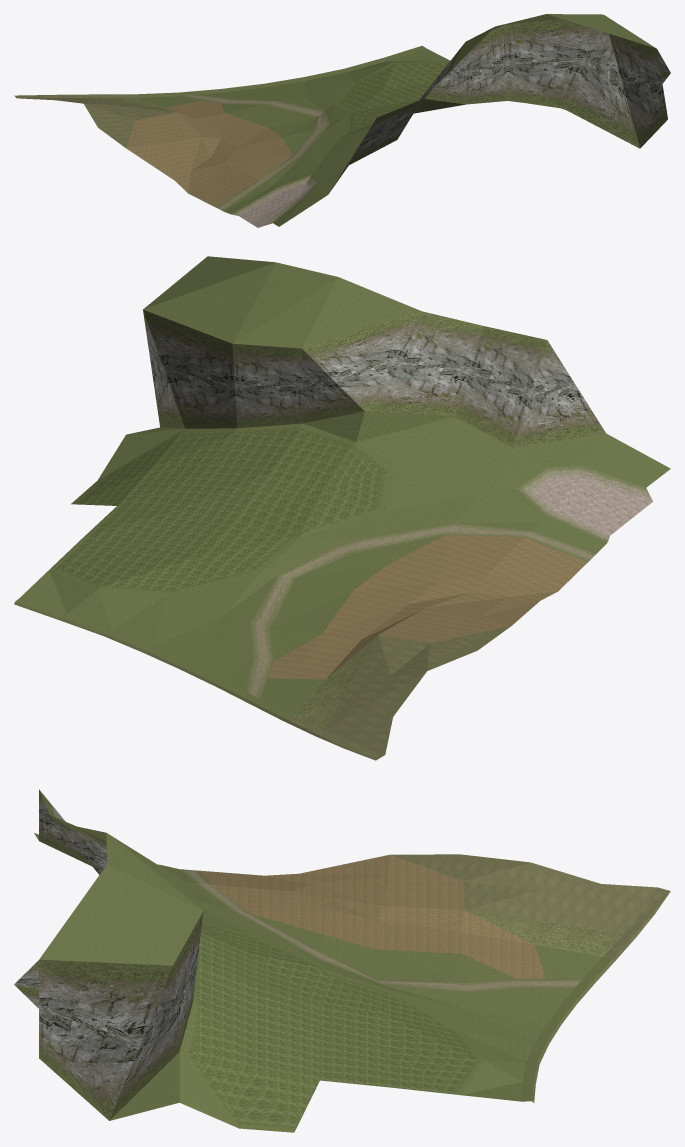
File: cuntwland23b.obj
3 views of the same model, one above another, from view 1: azimuth 30°, elevation 25°; view 2: azimuth 150°, elevation 25°; view 3: azimuth 270°, elevation 25° (orthographic). The views are drawn at different scales.
Parts seen in each view (by area): view 1: cuntwland23b; view 2: cuntwland23b; view 3: cuntwland23b.
Part boxes in pixels (x1=…): cuntwland23b: x1=14, y1=14, x2=670, y2=227; cuntwland23b: x1=14, y1=256, x2=670, y2=760; cuntwland23b: x1=14, y1=789, x2=670, y2=1132.
Bounding box in the file's own units: 263 × 111 × 295.
Materials: 10 (10 with a texture image).
